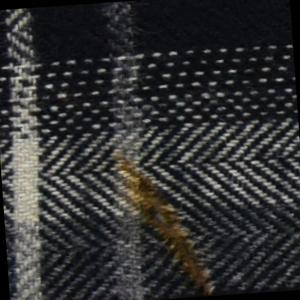Damage: (131, 174, 189, 255)
Oil Stain: (111, 145, 218, 300)
